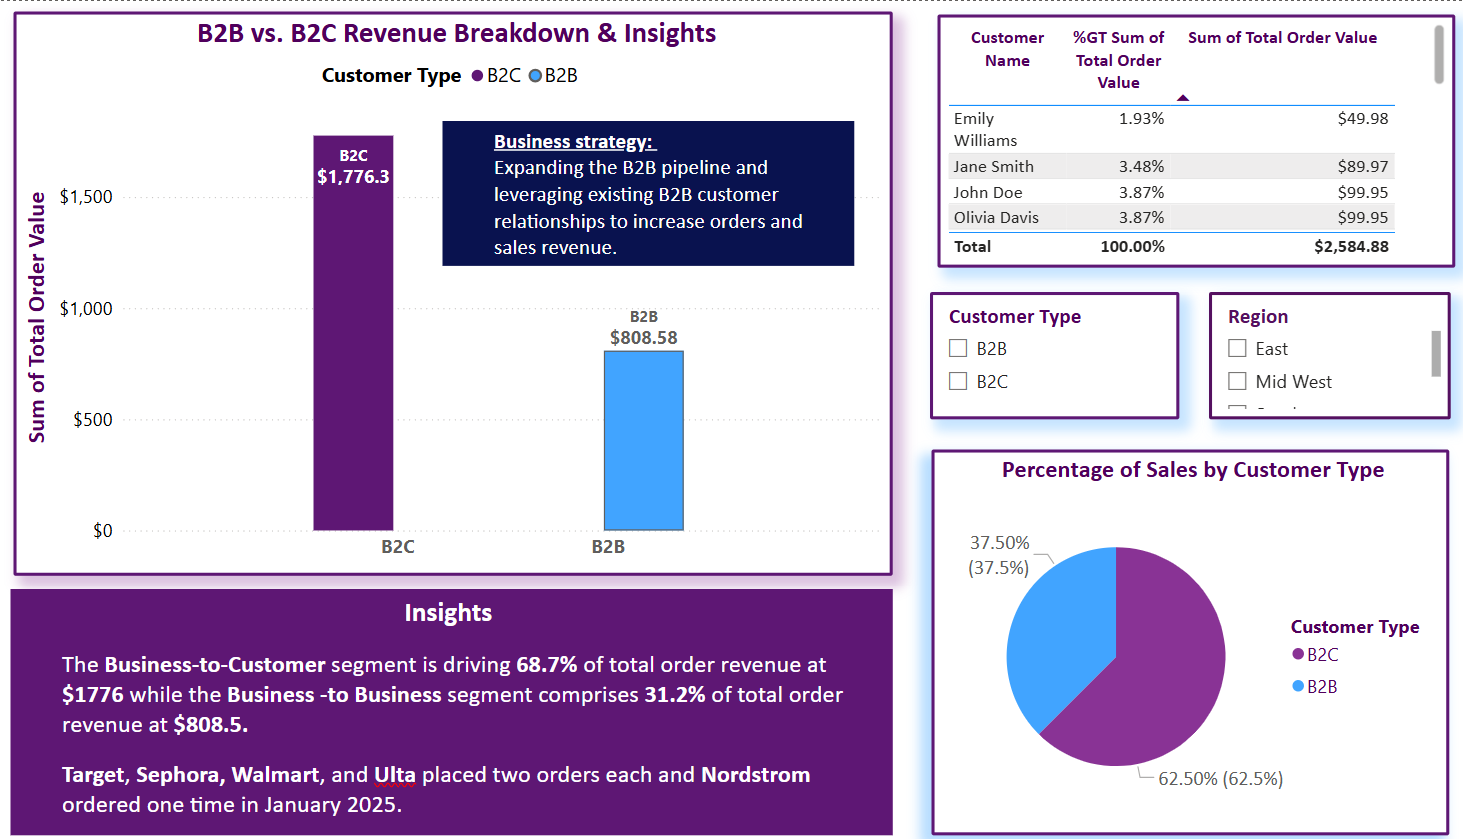

The page's visual inventory and layout, read from the dashboard file:
{"tool":"powerbi","page":{"name":"Sales by Customer Type","canvas":[1280,720],"ordinal":6},"visuals":[{"type":"clusteredColumnChart","title":"B2B vs. B2C Revenue Breakdown & Insights","fields":{"Category":["Consumer Total Spend.Customer Type"],"Y":["Sum(Consumer Total Spend.Total Order Value)"],"Series":["Consumer Total Spend.Customer Type"]},"box":[10.6,0,767.8,492.8],"z":0},{"type":"slicer","fields":{"Values":["Consumer Total Spend.Customer Type"]},"box":[814.3,255.1,193.9,110.3],"z":1000},{"type":"tableEx","fields":{"Values":["Consumer Total Spend.Customer Name","Sum(Consumer Total Spend.Total Order Value)","Sum(Consumer Total Spend.Total Order Value)1"]},"box":[814.3,9.3,453,221.8],"z":2000},{"type":"pieChart","title":"Percentage of Sales by Customer Type","fields":{"Category":["Consumer Total Spend.Customer Type"],"Y":["Sum(Consumer Total Spend.Quantity Sold)"]},"box":[814.3,391.9,453,312.2],"z":3000},{"type":"textbox","box":[10,504.3,768.6,215.7],"z":4000},{"type":"slicer","fields":{"Values":["Consumer Total Spend.Region"]},"box":[1056.1,255.1,191.3,110.3],"z":5000},{"type":"textbox","box":[394.4,104.6,360,127],"z":6000}]}

Visuals, with their boxes in screenshot pixels (x1, y1, x2, y2), scaled from the page's 1280x720 canvas onto the 1463x839 screenshot:
"B2B vs. B2C Revenue Breakdown & Insights" clusteredColumnChart: (12, 0, 890, 574)
slicer - Consumer Total Spend.Customer Type: (931, 297, 1152, 426)
tableEx - Consumer Total Spend.Customer Name x Sum(Consumer Total Spend.Total Order Value): (931, 11, 1448, 269)
"Percentage of Sales by Customer Type" pieChart: (931, 457, 1448, 820)
textbox: (11, 588, 890, 838)
slicer - Consumer Total Spend.Region: (1207, 297, 1426, 426)
textbox: (451, 122, 862, 270)
